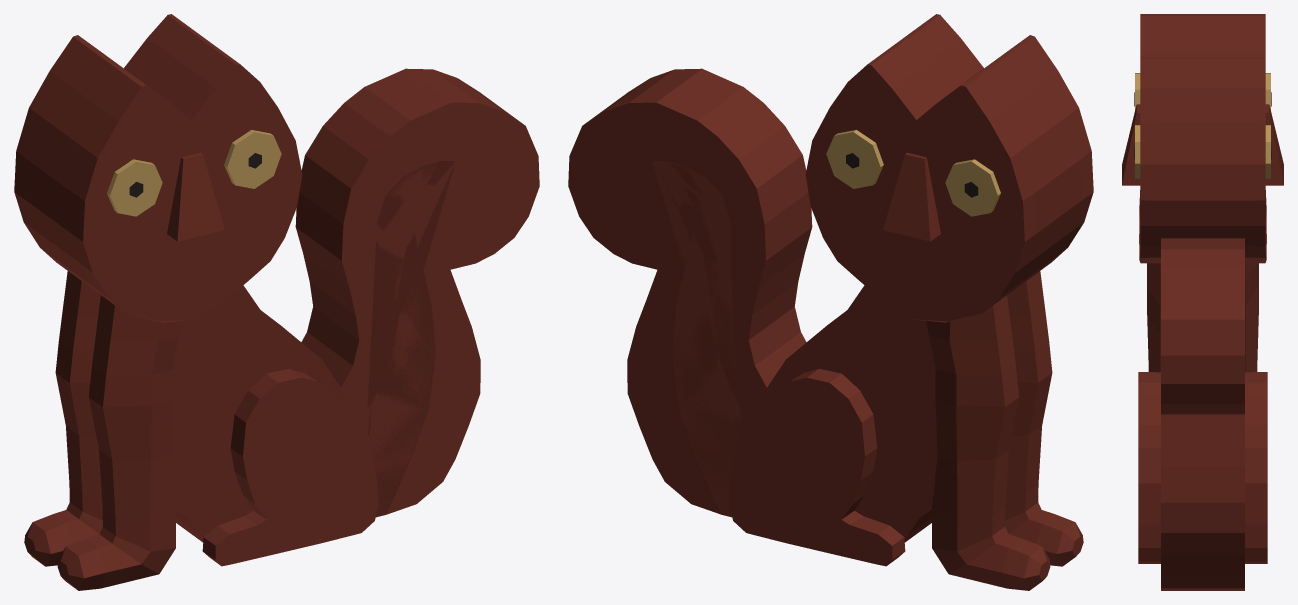
Rendered from Gato del río.fbx.
3 renders of one model, left to right at view 1: azimuth 30°, elevation 25°; view 2: azimuth 150°, elevation 25°; view 3: azimuth 270°, elevation 25°, orthographic. The views are drawn at different scales.
Parts seen in each view (by area): view 1: Cylinder; view 2: Cylinder; view 3: Cylinder.
Boxes of the visible parts, x1,y1,x2,y2 form: Cylinder: (14,14,539,590); Cylinder: (568,14,1093,590); Cylinder: (1122,14,1283,590).
Size of the model in its own units: 1978 by 2023 by 650.
